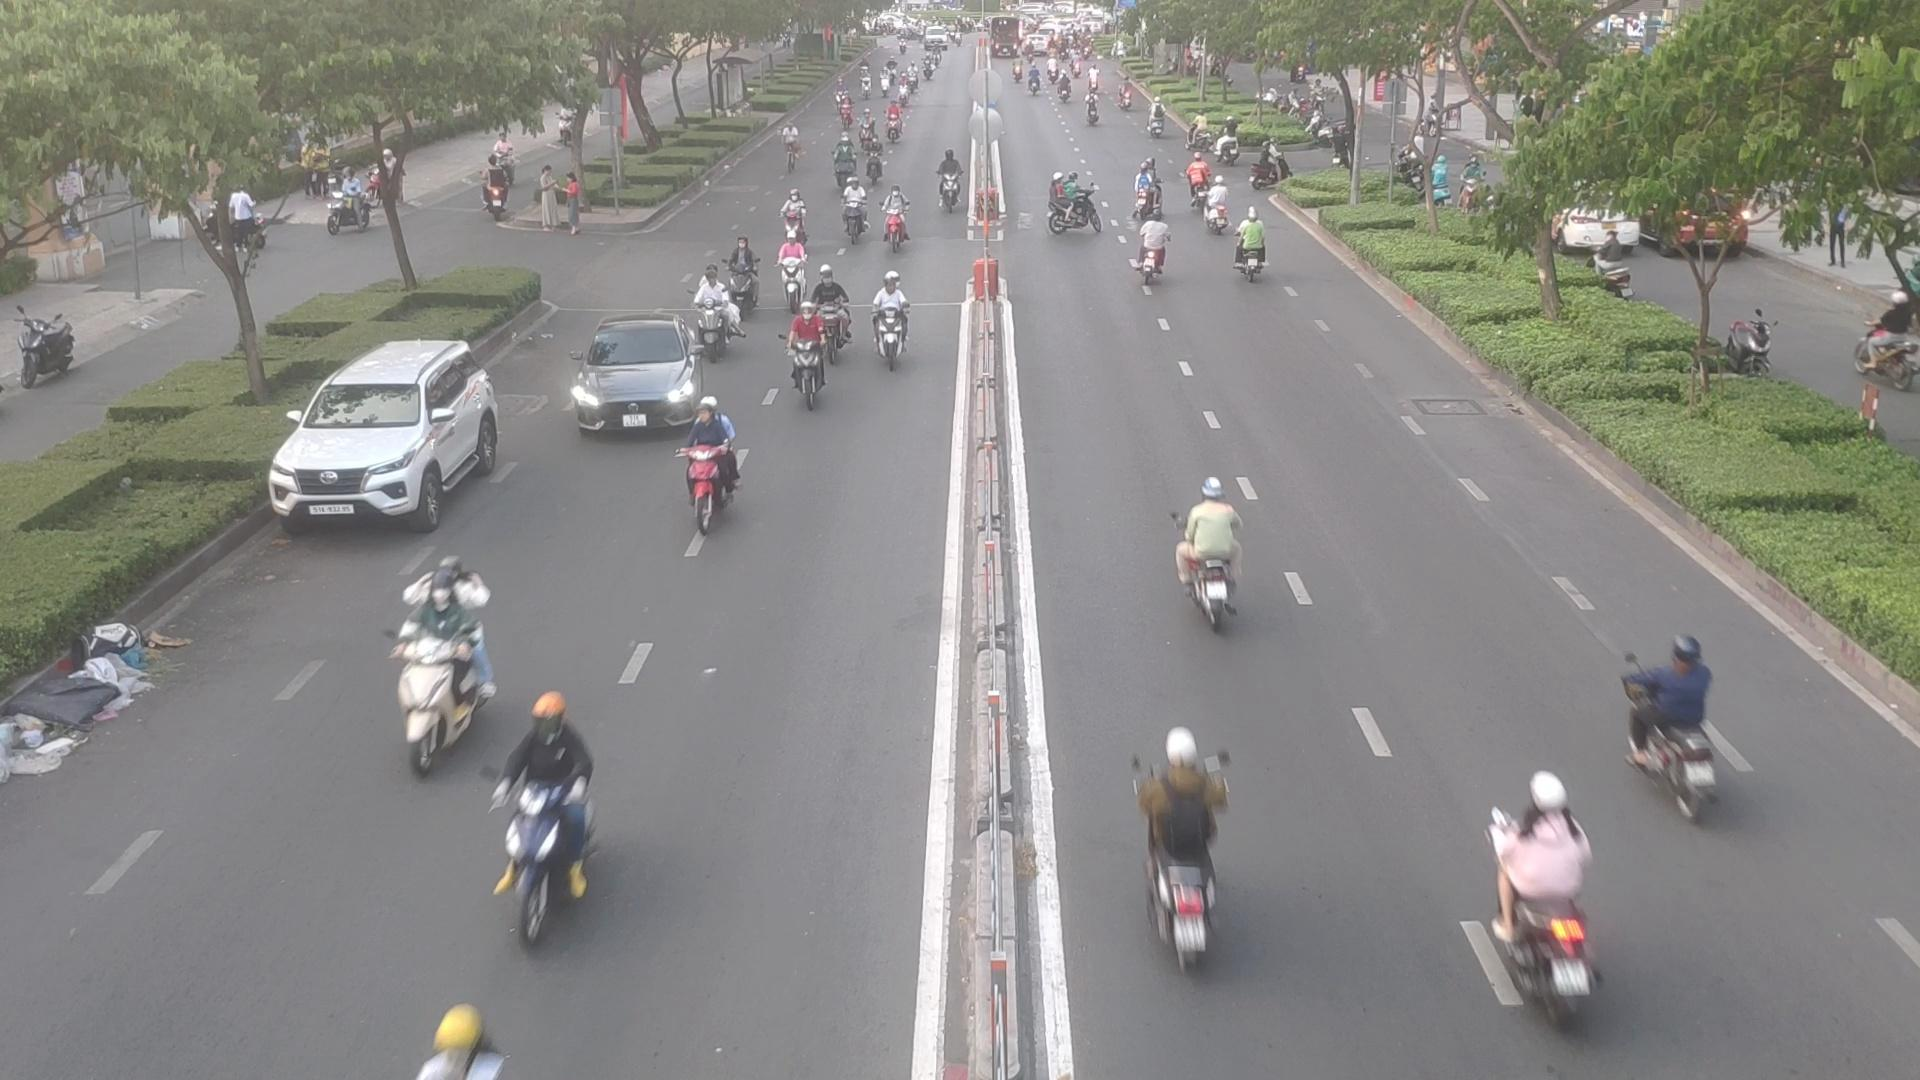car: (272, 342, 514, 530), (566, 316, 707, 434)
motorbike: (1476, 773, 1596, 1015), (496, 698, 611, 942), (1120, 775, 1232, 972), (1623, 630, 1742, 812), (386, 588, 487, 770), (665, 400, 745, 541), (1176, 487, 1253, 629), (785, 305, 843, 409), (690, 272, 749, 357), (868, 285, 915, 372), (1044, 167, 1102, 237), (1232, 218, 1276, 284), (723, 241, 764, 307), (1127, 160, 1160, 229), (781, 233, 819, 293), (1133, 235, 1171, 286), (877, 202, 909, 253), (840, 185, 868, 241), (779, 187, 808, 240), (938, 152, 961, 214), (1203, 179, 1228, 235), (1185, 156, 1209, 212), (833, 135, 856, 193), (866, 137, 880, 185)
